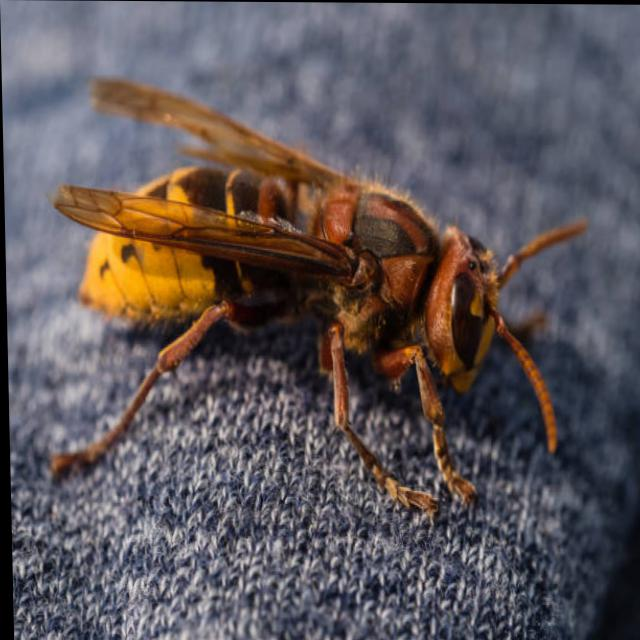Vespa Crabro: (34, 30, 586, 538)
